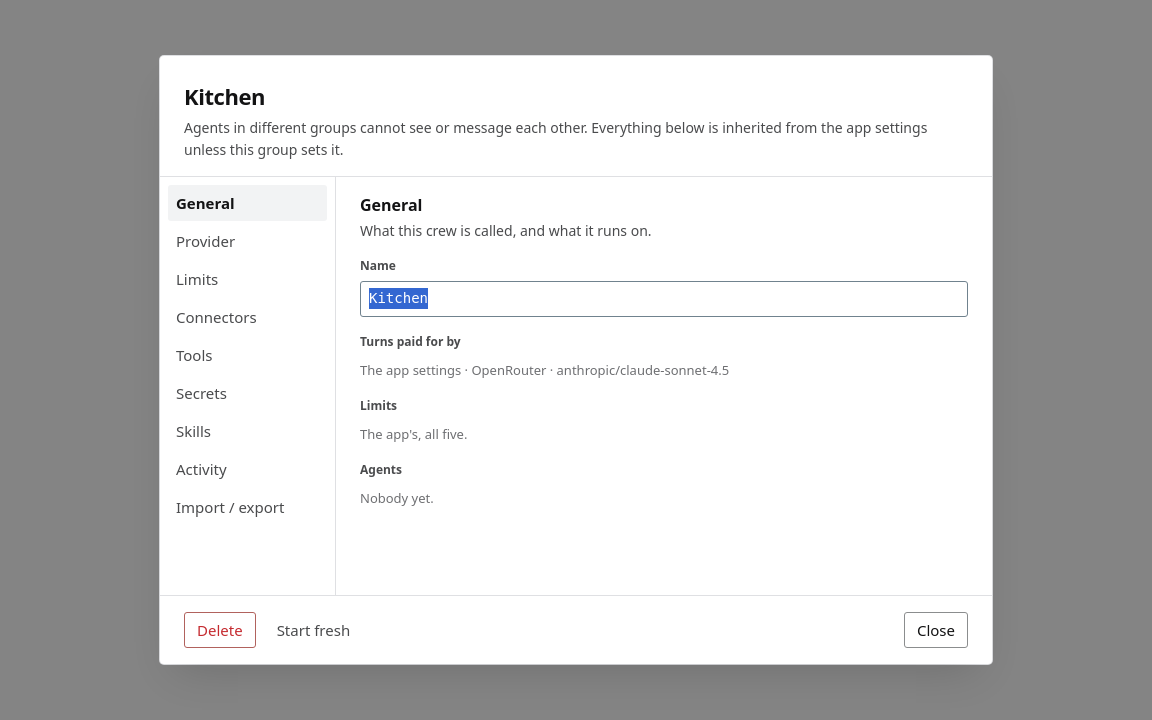
Test case: who pays for a group's turns › withholds the Claude plan and the machine-local presets on a server
The width and height of the screenshot is (1152, 720).
Click the tab "Provider". click: x=248, y=241
box: 168,223 -> 327,259
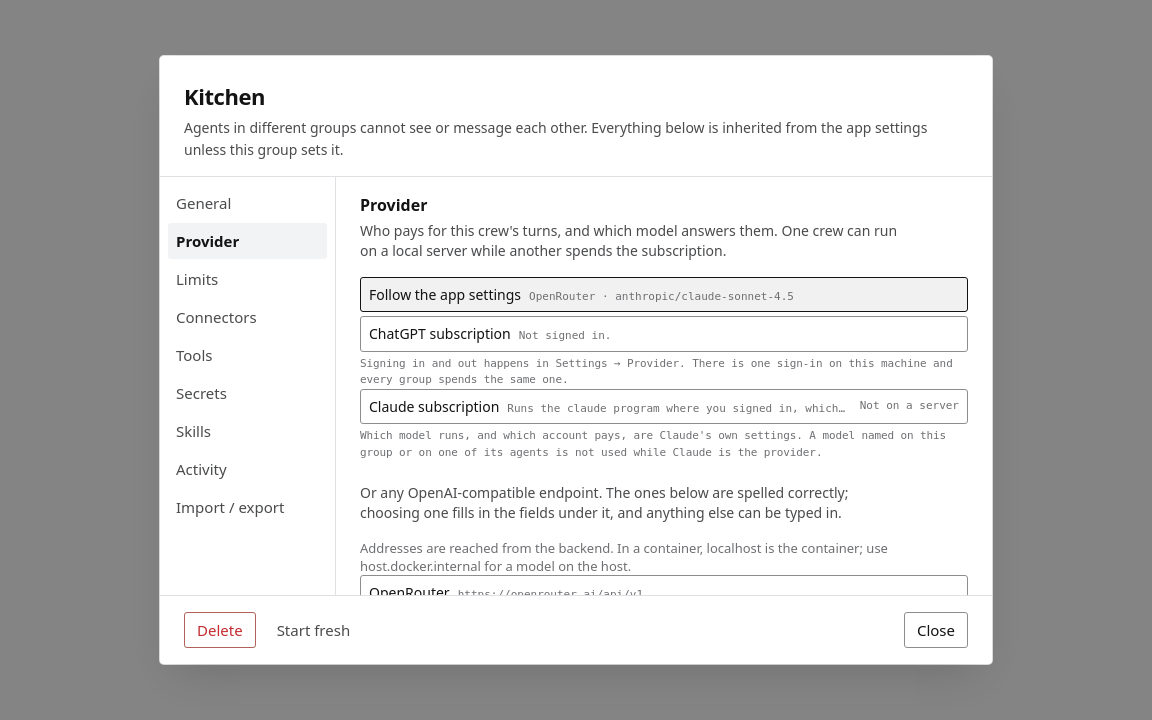
Check: the text "Not on a server" is shown, box 860,398 -> 959,415
